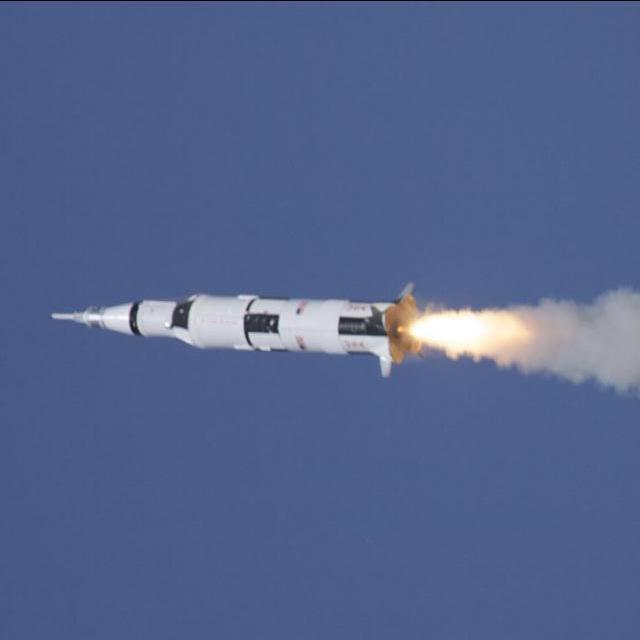missile: (49, 282, 427, 384)
